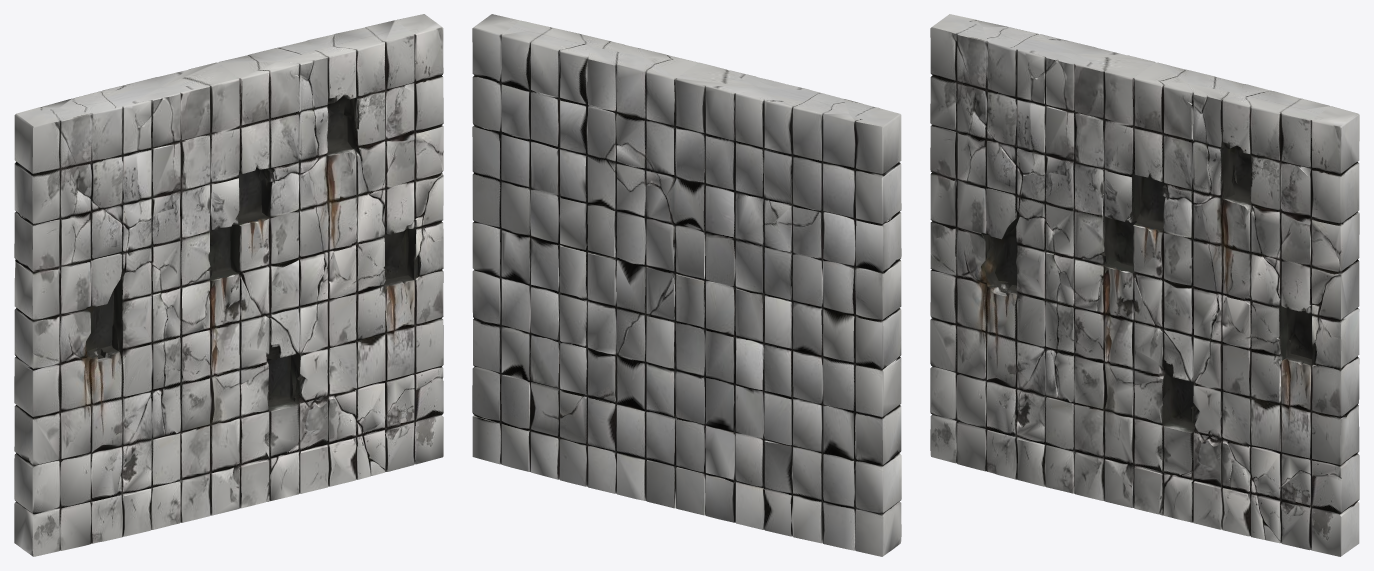
The model's file is finish_tiles_damaged_idle.glb.
The picture shows the model from 3 angles, left to right: view 1: azimuth 30°, elevation 25°; view 2: azimuth 150°, elevation 25°; view 3: azimuth 330°, elevation 25°; orthographic projection.
Visible parts, largest first — view 1: tripo_node_1c06ad96-e37b-4bcf-ac83-889176d6b3a3; view 2: tripo_node_1c06ad96-e37b-4bcf-ac83-889176d6b3a3; view 3: tripo_node_1c06ad96-e37b-4bcf-ac83-889176d6b3a3.
Part boxes in pixels (x1,y1,x2,y2): tripo_node_1c06ad96-e37b-4bcf-ac83-889176d6b3a3: [14, 14, 443, 556]; tripo_node_1c06ad96-e37b-4bcf-ac83-889176d6b3a3: [472, 14, 901, 556]; tripo_node_1c06ad96-e37b-4bcf-ac83-889176d6b3a3: [930, 14, 1359, 556].
Size of the model in its own units: 0.9998 by 0.9997 by 0.0999.
Materials: 1 (1 with a texture image).
